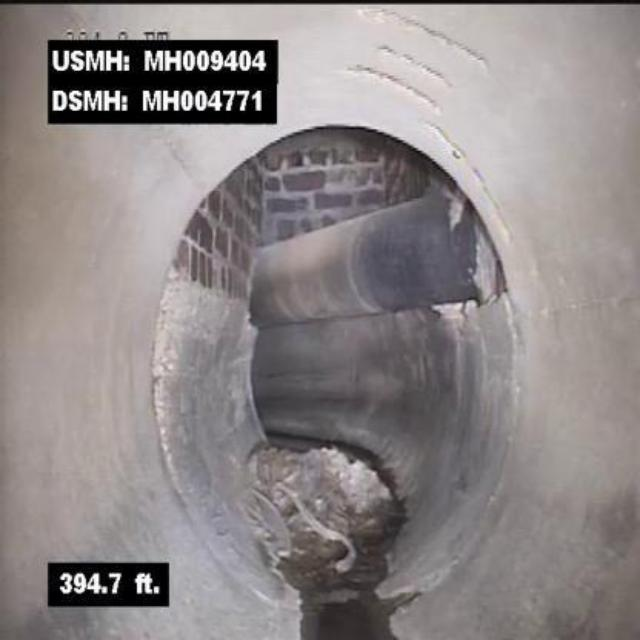Debris: (260, 442, 408, 568)
Utility intrusion: (245, 182, 511, 334)
